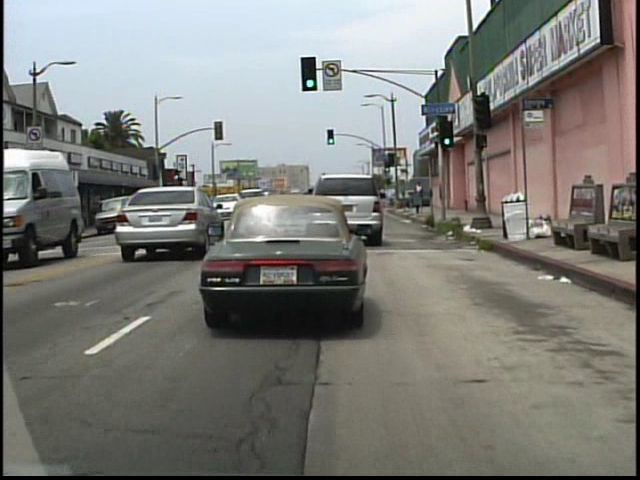person: (415, 181, 427, 209)
